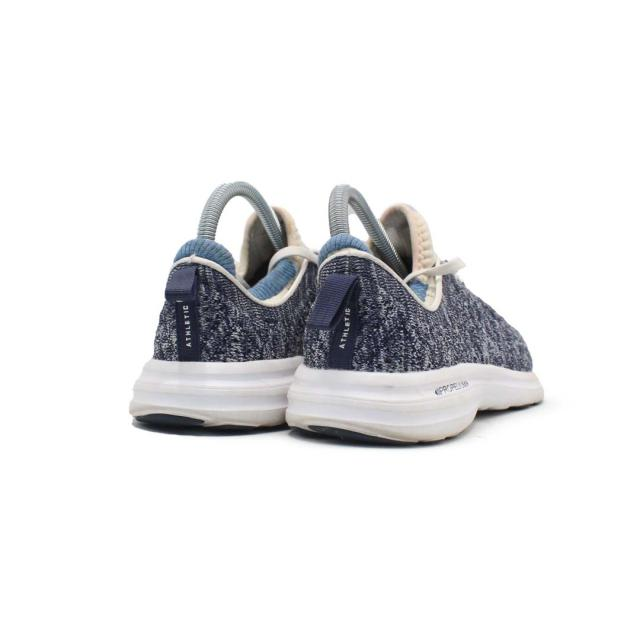heel: (300, 240, 444, 373), (150, 239, 298, 361)
midsole: (288, 362, 543, 445), (129, 356, 303, 435)
uppersole: (432, 256, 532, 369)
